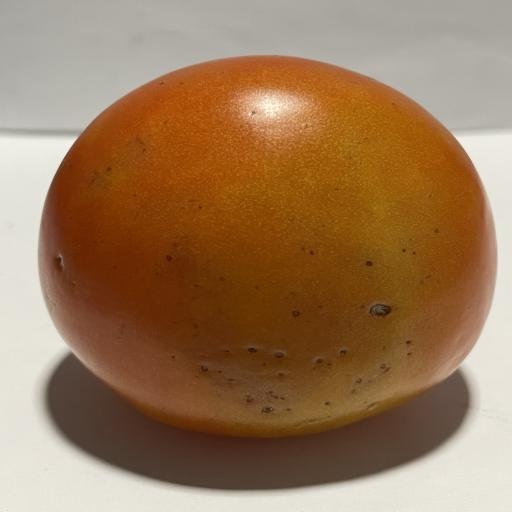ripe: (38, 56, 496, 437)
